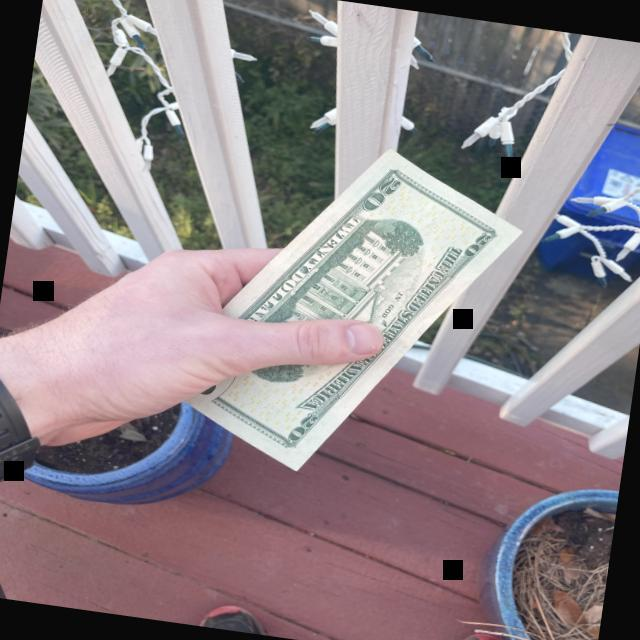twenty: (148, 147, 522, 472)
